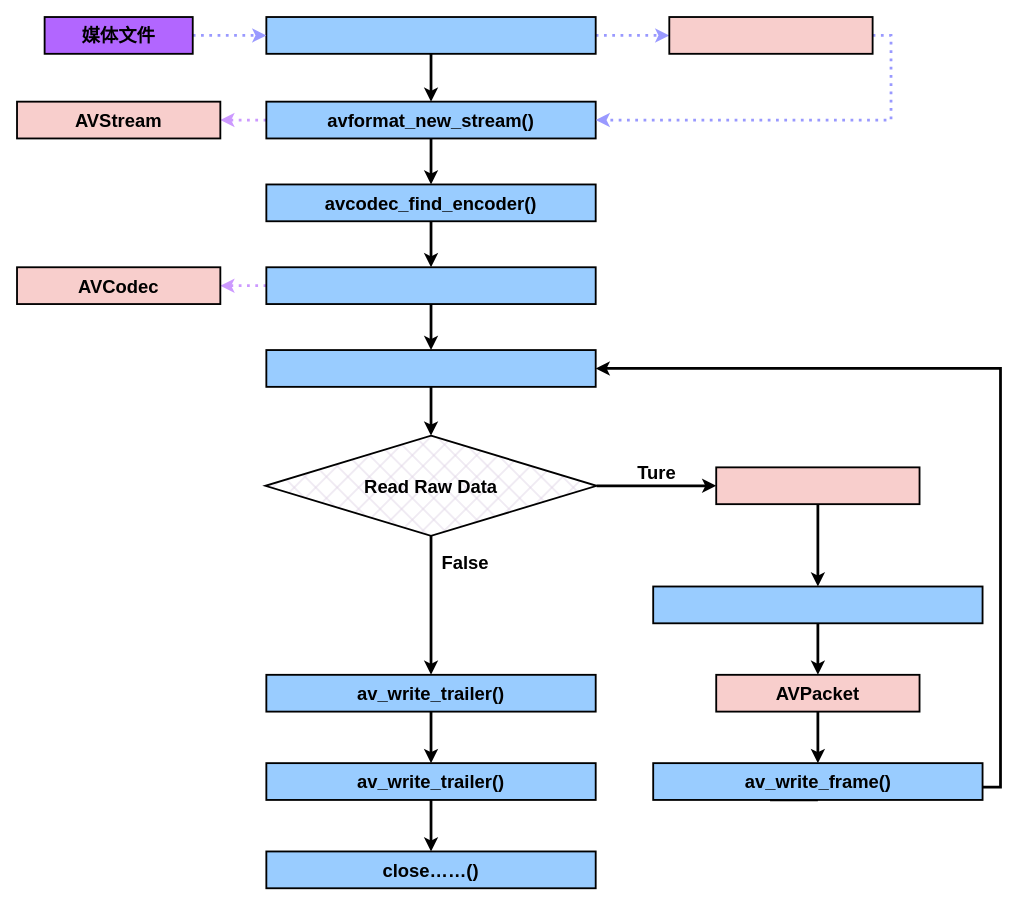
Some shapes in this 1025 by 904 pixel diagram are drawn without their labels. The box of each missing label's shape, as (x1, y1, x2, y2) in pixels:
avcodec_encode_video2(): (652, 585, 983, 624)
avcodec_open2(): (265, 266, 596, 305)
avformat_alloc_output_context2(): (265, 16, 596, 54)
avformat_write_header(): (265, 349, 596, 387)
AVFormatContext: (668, 16, 873, 54)
AVFrame: (715, 466, 920, 505)
